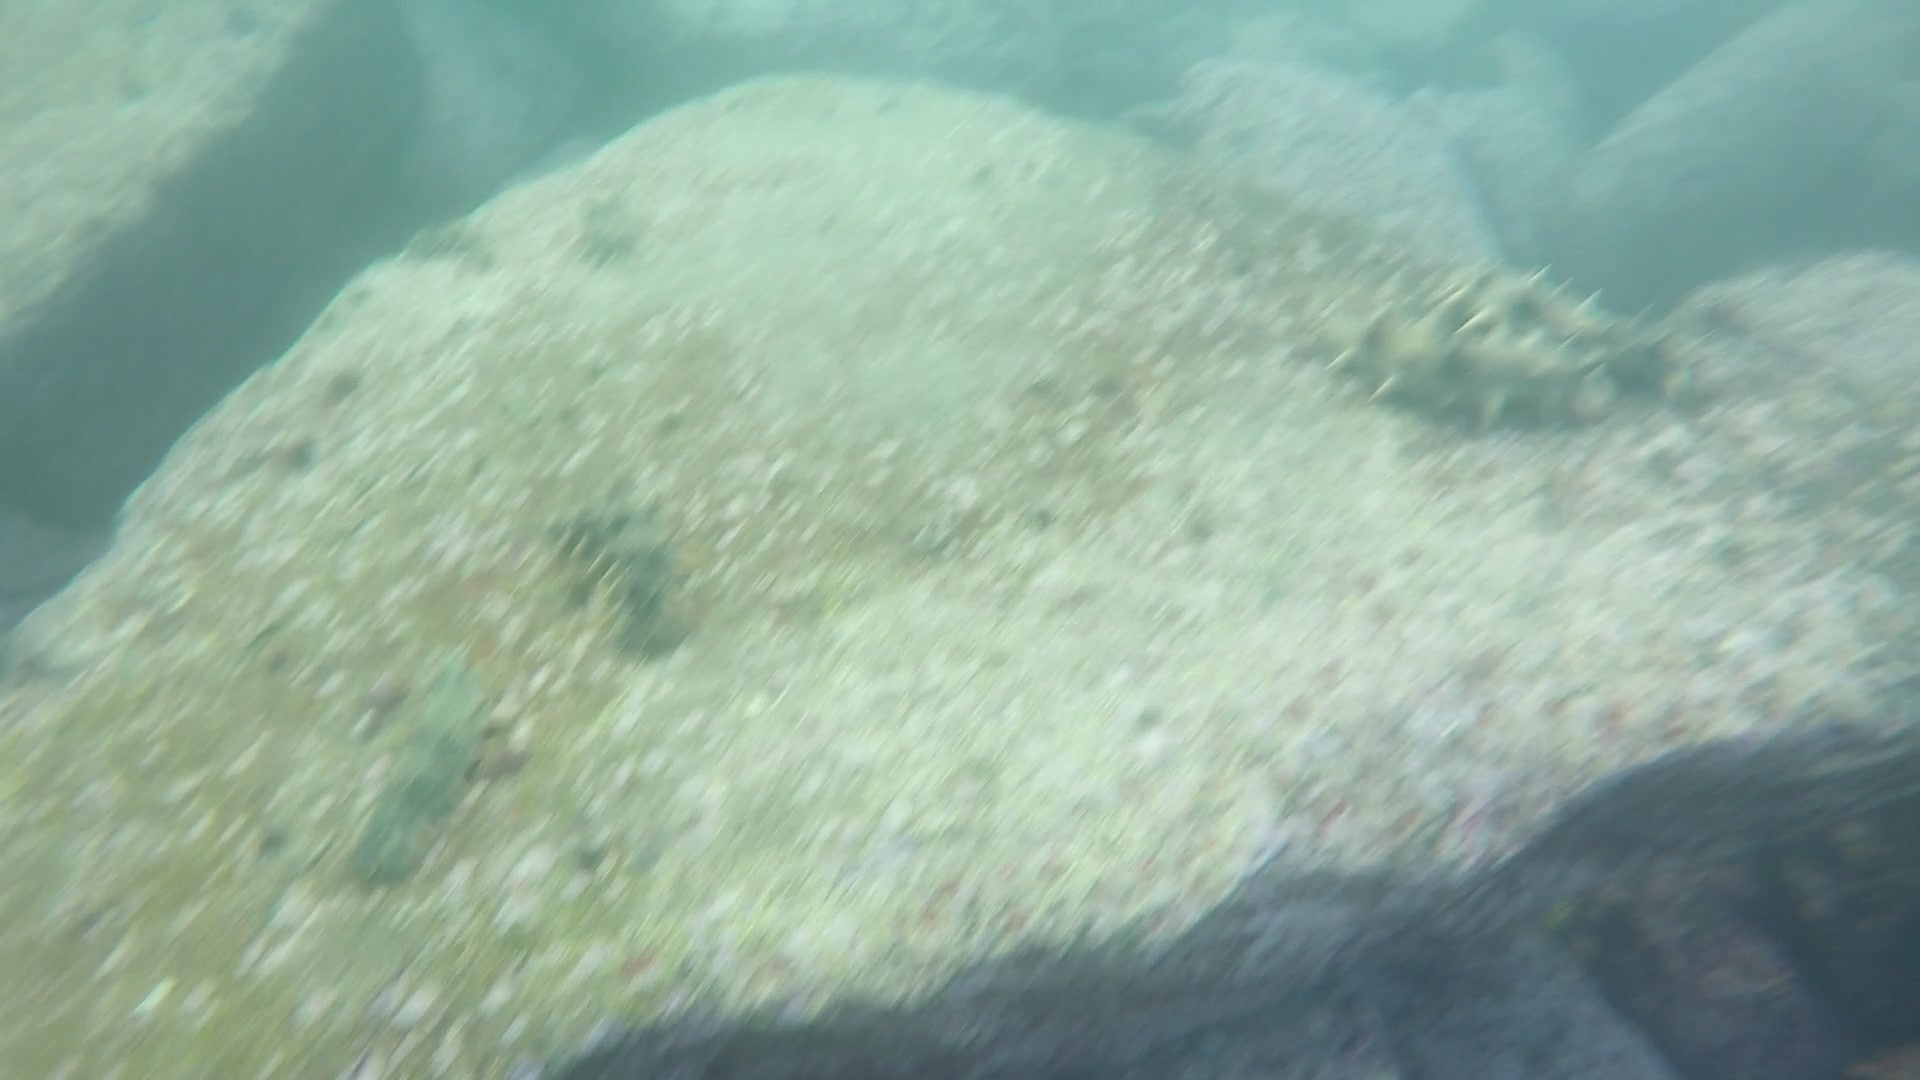holothurian: (1291, 289, 1610, 446), (1404, 241, 1691, 402), (340, 642, 504, 891), (542, 476, 716, 665), (564, 190, 651, 276)
